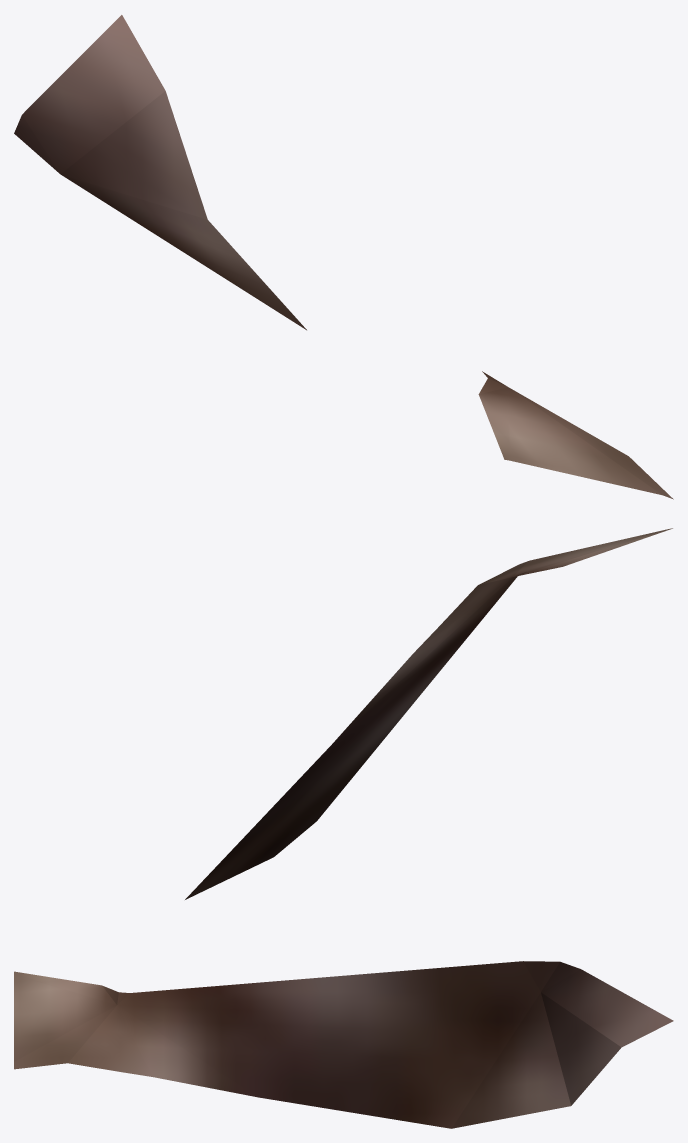
The picture shows the model from 3 angles, top to bottom: view 1: azimuth 30°, elevation 25°; view 2: azimuth 150°, elevation 25°; view 3: azimuth 270°, elevation 25°; orthographic projection. The views are drawn at different scales.
Size of the model in its own units: 0.0313 by 0.0264 by 0.1462.
1 material, 1 textured.
